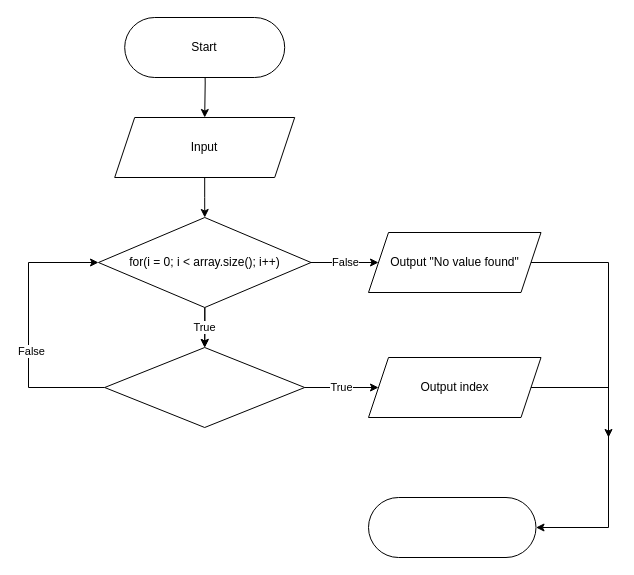
Some shapes in this 634 by 575 pixel diagram are drawn without their labels. The shapes that lost their labels are listed below. From the top down, each one's box as (x1, y1, x2, y2) in pixels, then its label:
(104, 346, 305, 428): if(array[i]) == input
(368, 496, 536, 558): End
